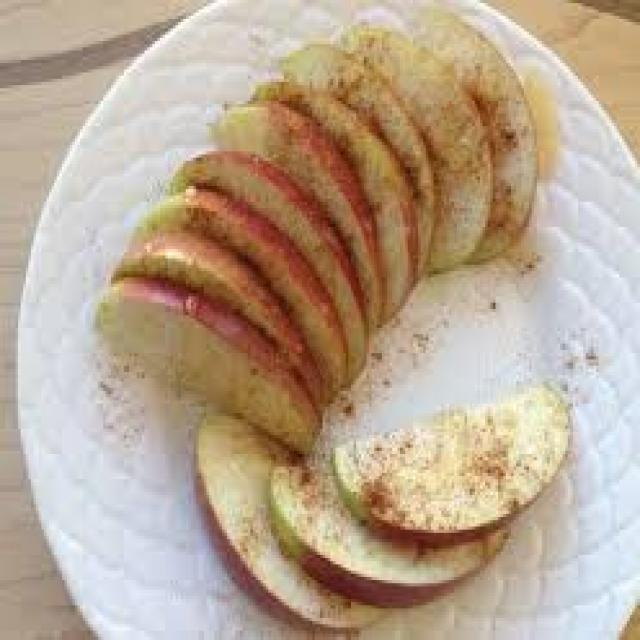Apple: (183, 166, 360, 429), (224, 114, 380, 384), (147, 203, 346, 406), (192, 410, 376, 629), (256, 93, 410, 344), (122, 234, 323, 416), (105, 279, 325, 444), (291, 49, 430, 298), (336, 389, 578, 529), (360, 28, 490, 264), (427, 12, 536, 271)
